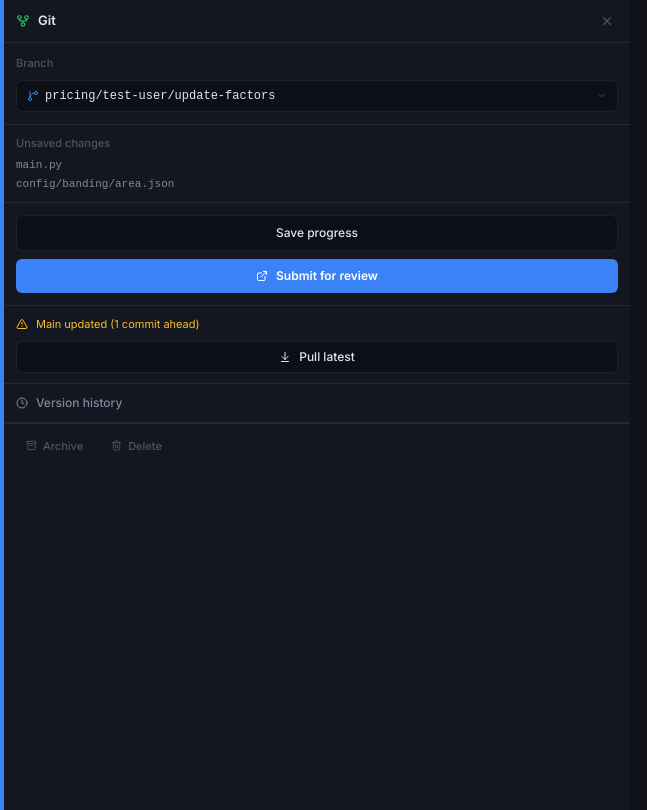
GitPanel › shows conflict error on pull conflict
Click the button "Pull latest": point(317, 356) [16, 340, 618, 372]
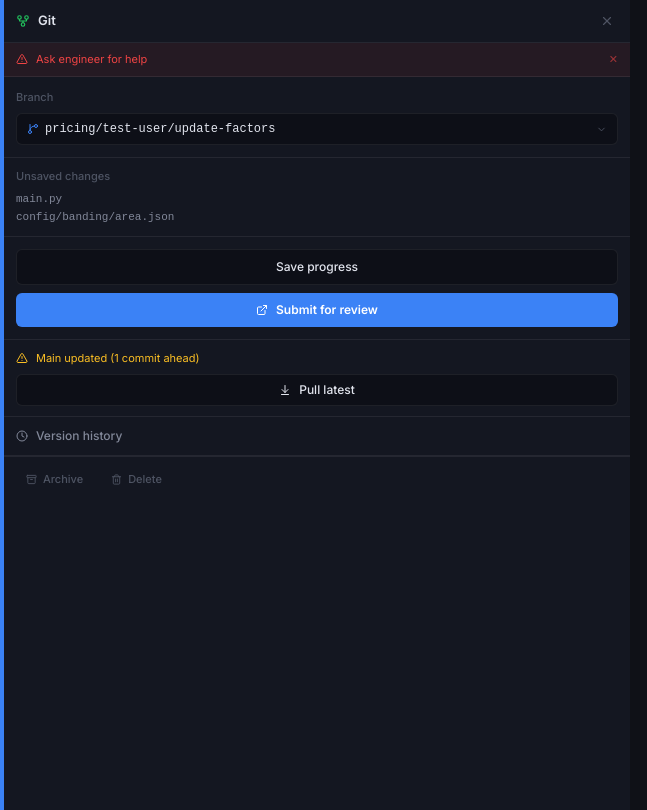
Expected: the text "Ask engineer for help" is shown, [36, 52, 147, 66]
